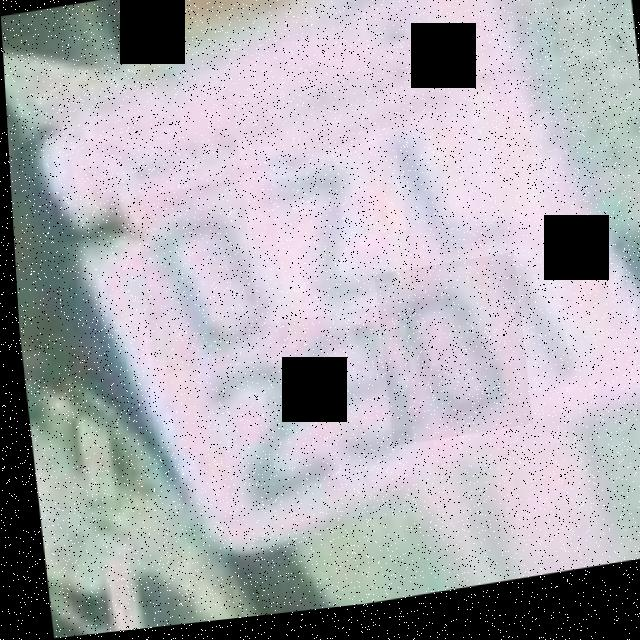0: (370, 263, 527, 456)
2: (158, 319, 352, 541)
9: (272, 289, 429, 485)
J: (353, 94, 517, 280)
O: (131, 180, 285, 379)
Z: (236, 134, 410, 333)
